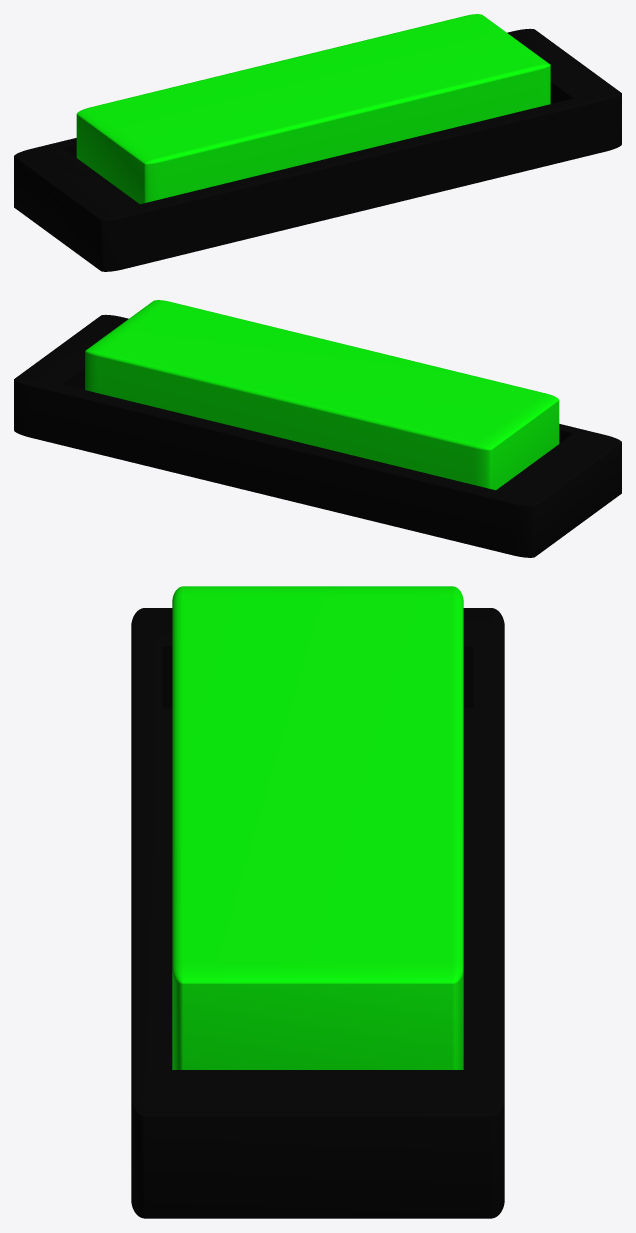
File: boton.fbx
3 views of the same model, one above another, from view 1: azimuth 30°, elevation 25°; view 2: azimuth 150°, elevation 25°; view 3: azimuth 270°, elevation 25° (orthographic). The views are drawn at different scales.
Parts seen in each view (by area): view 1: Cube.001, Cube; view 2: Cube.001, Cube; view 3: Cube.001, Cube.
Boxes of the visible parts, bbox=[...] form: Cube.001: bbox=[76, 14, 550, 204]; Cube: bbox=[14, 28, 621, 271]; Cube.001: bbox=[85, 300, 559, 490]; Cube: bbox=[14, 314, 621, 557]; Cube.001: bbox=[172, 586, 463, 1069]; Cube: bbox=[131, 608, 504, 1218].
Bounding box in the file's own units: 536 × 90.57 × 167.
